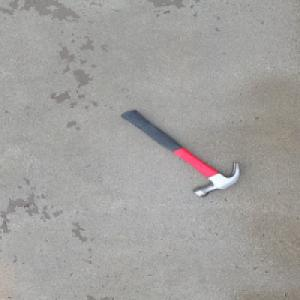Hammer: (117, 109, 241, 199)
